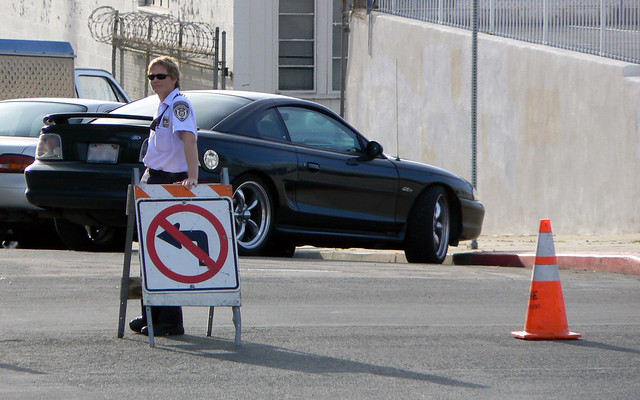car: (25, 90, 485, 264), (1, 99, 128, 214)
